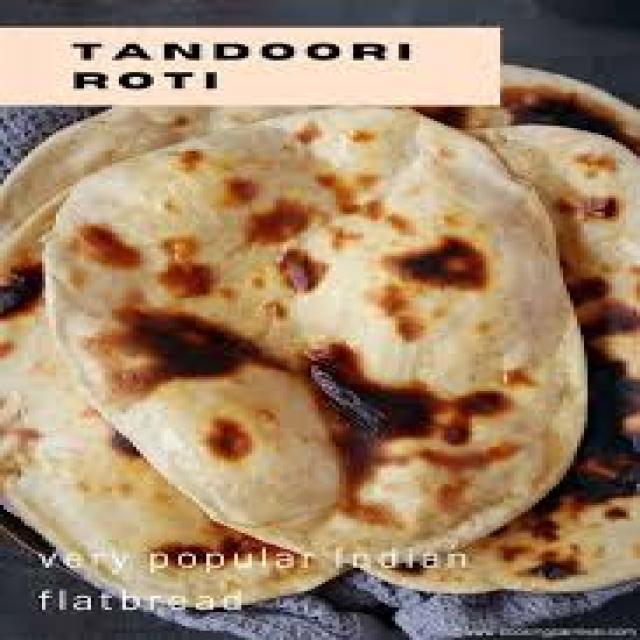ROTI: (42, 109, 585, 569)
